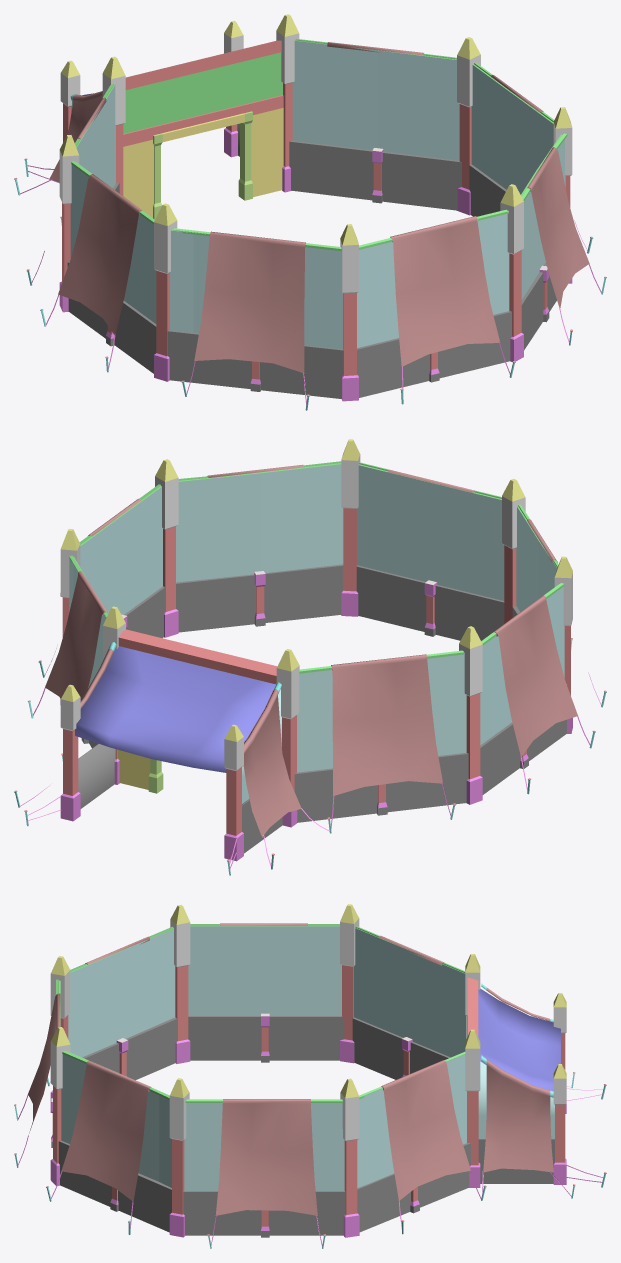
The model's file is L2fortress_02_s__fort02_officer_wall.gltf.
3 renders of one model, top to bottom at view 1: azimuth 30°, elevation 25°; view 2: azimuth 150°, elevation 25°; view 3: azimuth 270°, elevation 25°, orthographic. The views are drawn at different scales.
Parts seen in each view (by area): view 1: fort02_officer_wall; view 2: fort02_officer_wall; view 3: fort02_officer_wall.
Boxes of the visible parts, left/top/right/bottom form: fort02_officer_wall: left=14, top=14, right=606, bottom=410; fort02_officer_wall: left=14, top=439, right=606, bottom=875; fort02_officer_wall: left=14, top=904, right=606, bottom=1248.
Size of the model in its own units: 9.12 by 3.07 by 10.7.
